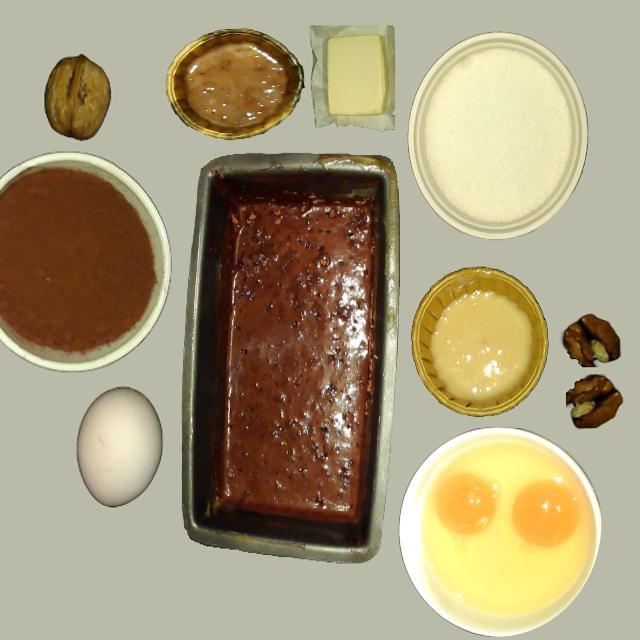Cocoa: (2, 168, 157, 358)
Egg: (512, 481, 578, 548), (435, 473, 499, 537)
Sugar: (422, 44, 574, 228)
Walnut: (44, 54, 111, 139)
